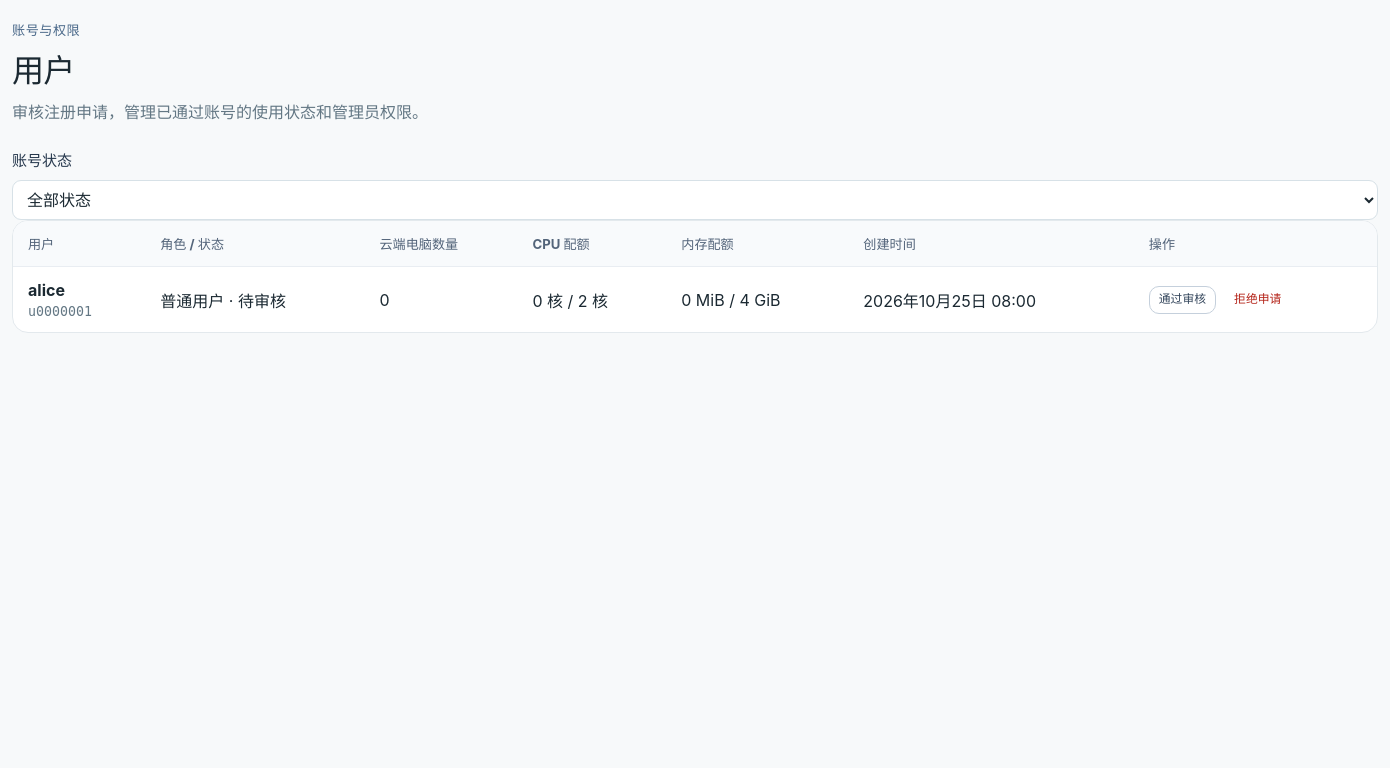
Scenario: admin account management › approves a pending registration using its expected status
What coordinates should you click on to do the following:
click the button "通过审核"
I would click on:
 (1182, 300)
Its box is x1=1149 y1=286 x2=1216 y2=314.
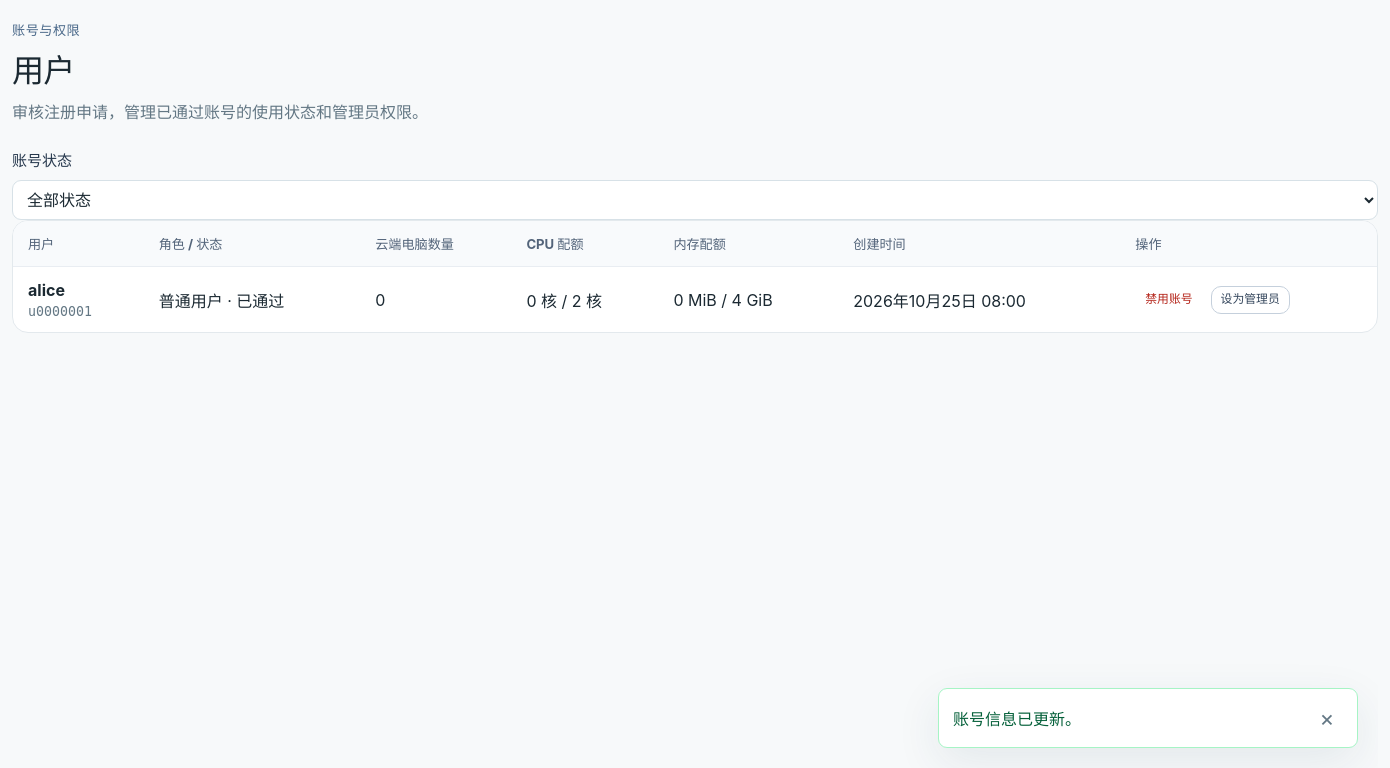
Check: the row that starts with "alice" is shown, box x1=13 y1=266 x2=1377 y2=332
